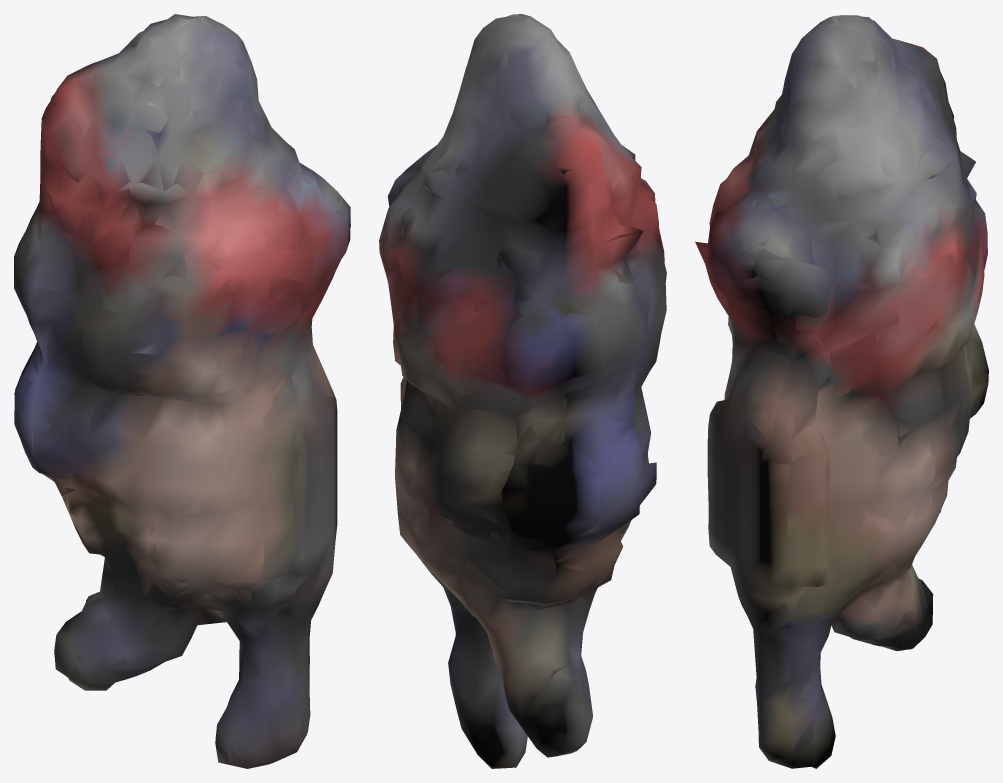
Rendered from conscript.glb.
The picture shows the model from 3 angles, left to right: view 1: azimuth 30°, elevation 25°; view 2: azimuth 150°, elevation 25°; view 3: azimuth 270°, elevation 25°; orthographic projection. The views are drawn at different scales.
Parts seen in each view (by area): view 1: soviet_conscript; view 2: soviet_conscript; view 3: soviet_conscript.
Part boxes in pixels (<box>): soviet_conscript: <box>14,14,350,768</box>; soviet_conscript: <box>379,14,666,768</box>; soviet_conscript: <box>695,15,988,768</box>.
Bounding box in the file's own units: 0.8669 × 2.23 × 0.8101.
